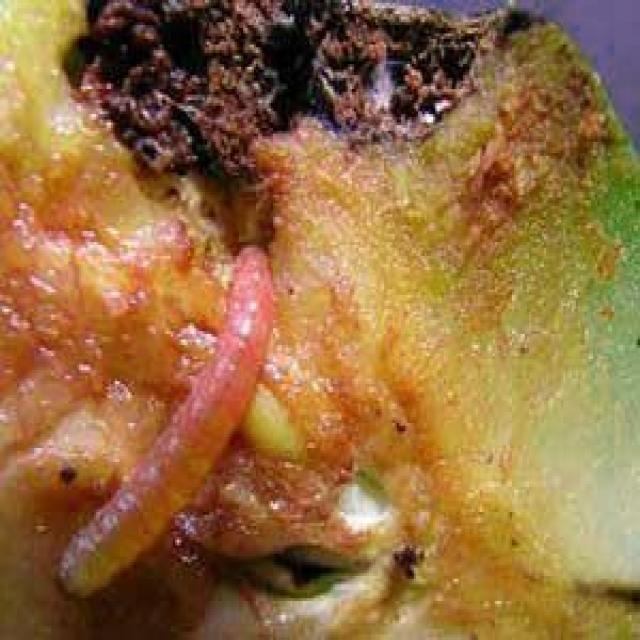peach borer: (56, 242, 287, 601)
